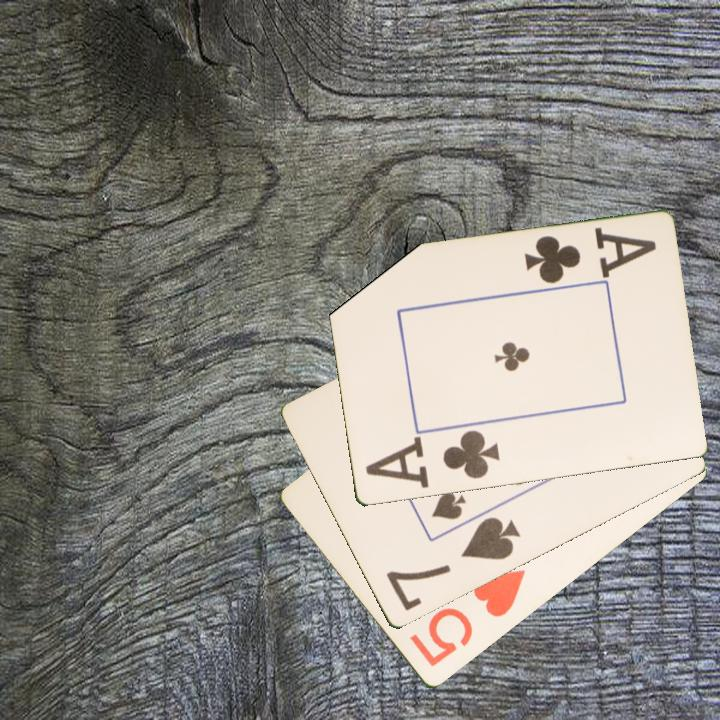5h: (405, 566, 529, 671)
7s: (382, 513, 524, 615)
Ac: (361, 427, 503, 492), (520, 224, 659, 288)
